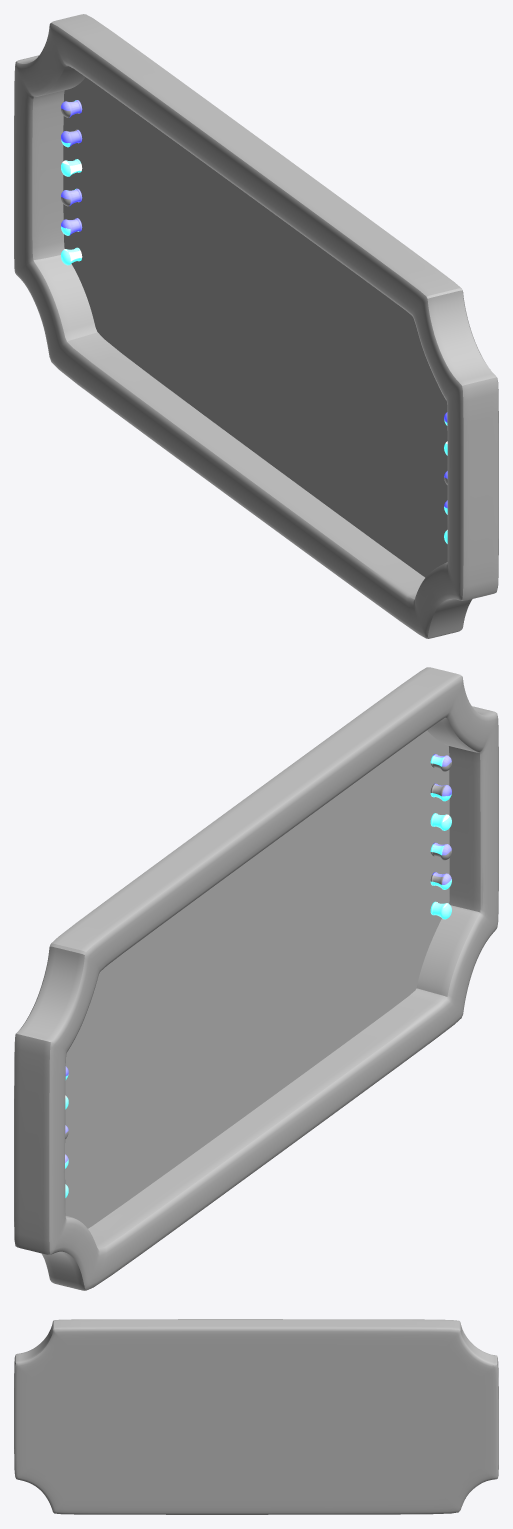
File: SM_Signboard_02c.fbx
3 views of the same model, one above another, from view 1: azimuth 30°, elevation 25°; view 2: azimuth 150°, elevation 25°; view 3: azimuth 270°, elevation 25° (orthographic). The views are drawn at different scales.
Visible parts, largest first — view 1: SM_Signboard_02c_LOD0; view 2: SM_Signboard_02c_LOD0; view 3: SM_Signboard_02c_LOD0.
Boxes of the visible parts, box(x1,y1,x2,y2) form: SM_Signboard_02c_LOD0: box(14, 14, 498, 638); SM_Signboard_02c_LOD0: box(14, 667, 498, 1290); SM_Signboard_02c_LOD0: box(14, 1319, 498, 1514).
Size of the model in its own units: 7.57 by 150 by 64.
